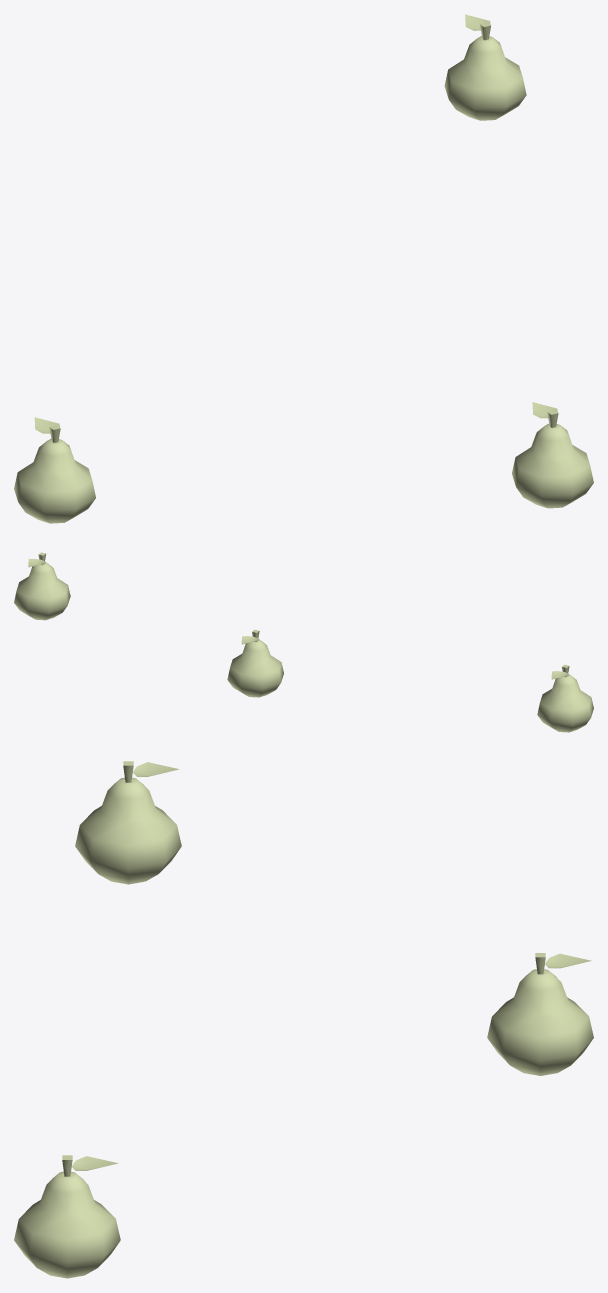
File: crafted-pear-fruits-growing.glb
3 renders of one model, top to bottom at view 1: azimuth 30°, elevation 25°; view 2: azimuth 150°, elevation 25°; view 3: azimuth 270°, elevation 25°, orthographic. The views are drawn at different scales.
Visible parts, largest first — view 1: fruit-2, fruit-1, fruit-0; view 2: fruit-0, fruit-1, fruit-2; view 3: fruit-0, fruit-1, fruit-2.
Part boxes in pixels (x1,y1,x2,y2): fruit-2: [444, 14, 526, 120]; fruit-1: [512, 402, 593, 508]; fruit-0: [14, 417, 95, 523]; fruit-0: [537, 664, 593, 732]; fruit-1: [227, 629, 283, 697]; fruit-2: [14, 552, 70, 620]; fruit-0: [75, 761, 181, 884]; fruit-1: [14, 1155, 120, 1278]; fruit-2: [487, 953, 593, 1075].
Size of the model in its own units: 1.27 by 0.56 by 0.76.
